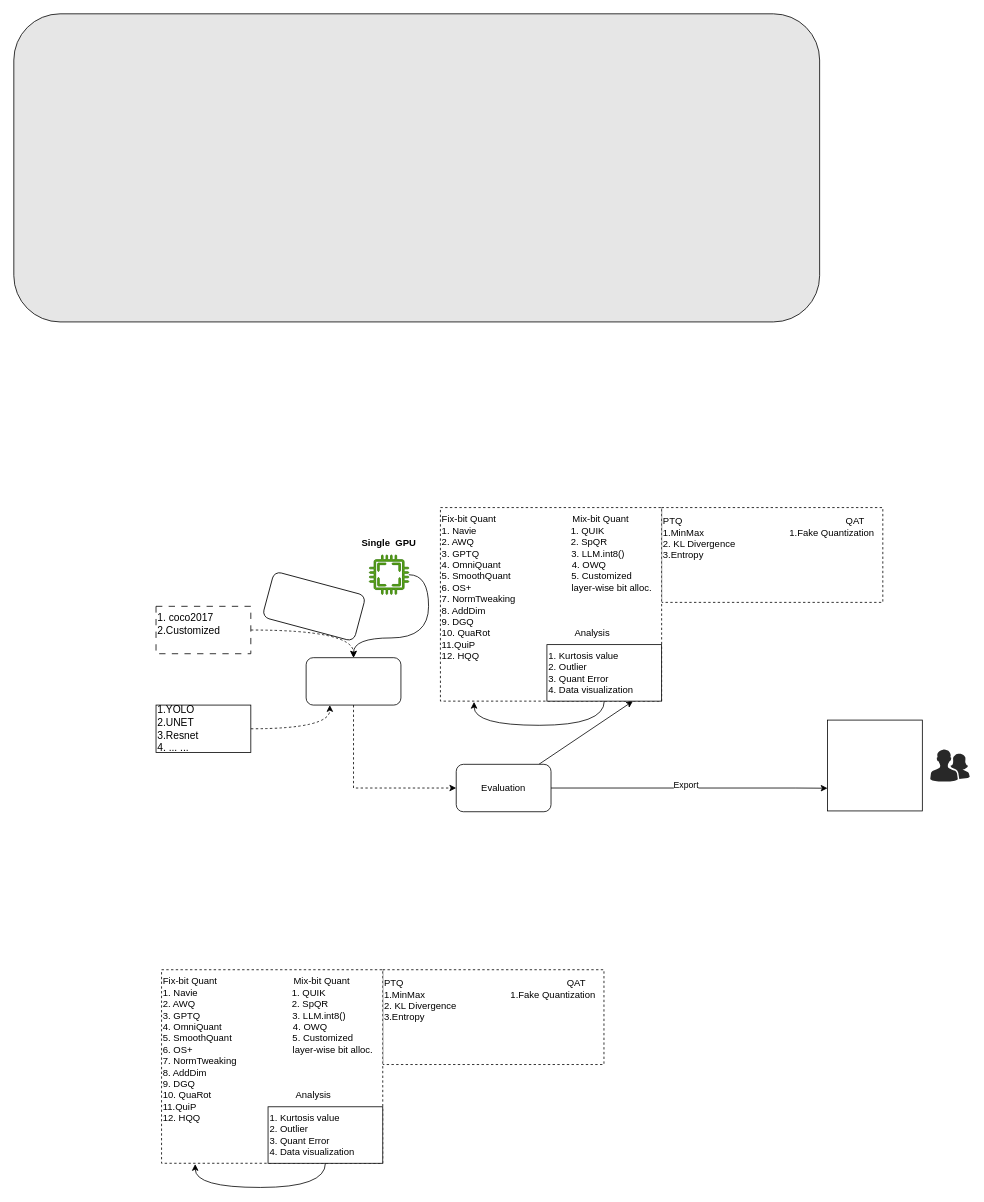
The diagram is 984 pixels wide and 1202 high, and some of its shapes have lost their labels. Here are the shapes that lost their labels. From the top down, the centre of each, then its label:
the point at 313,606: Calib. Data
the point at 353,681: Model Compression
the point at 874,765: Backend 1. Tensorrt 2. RKNN 4.
